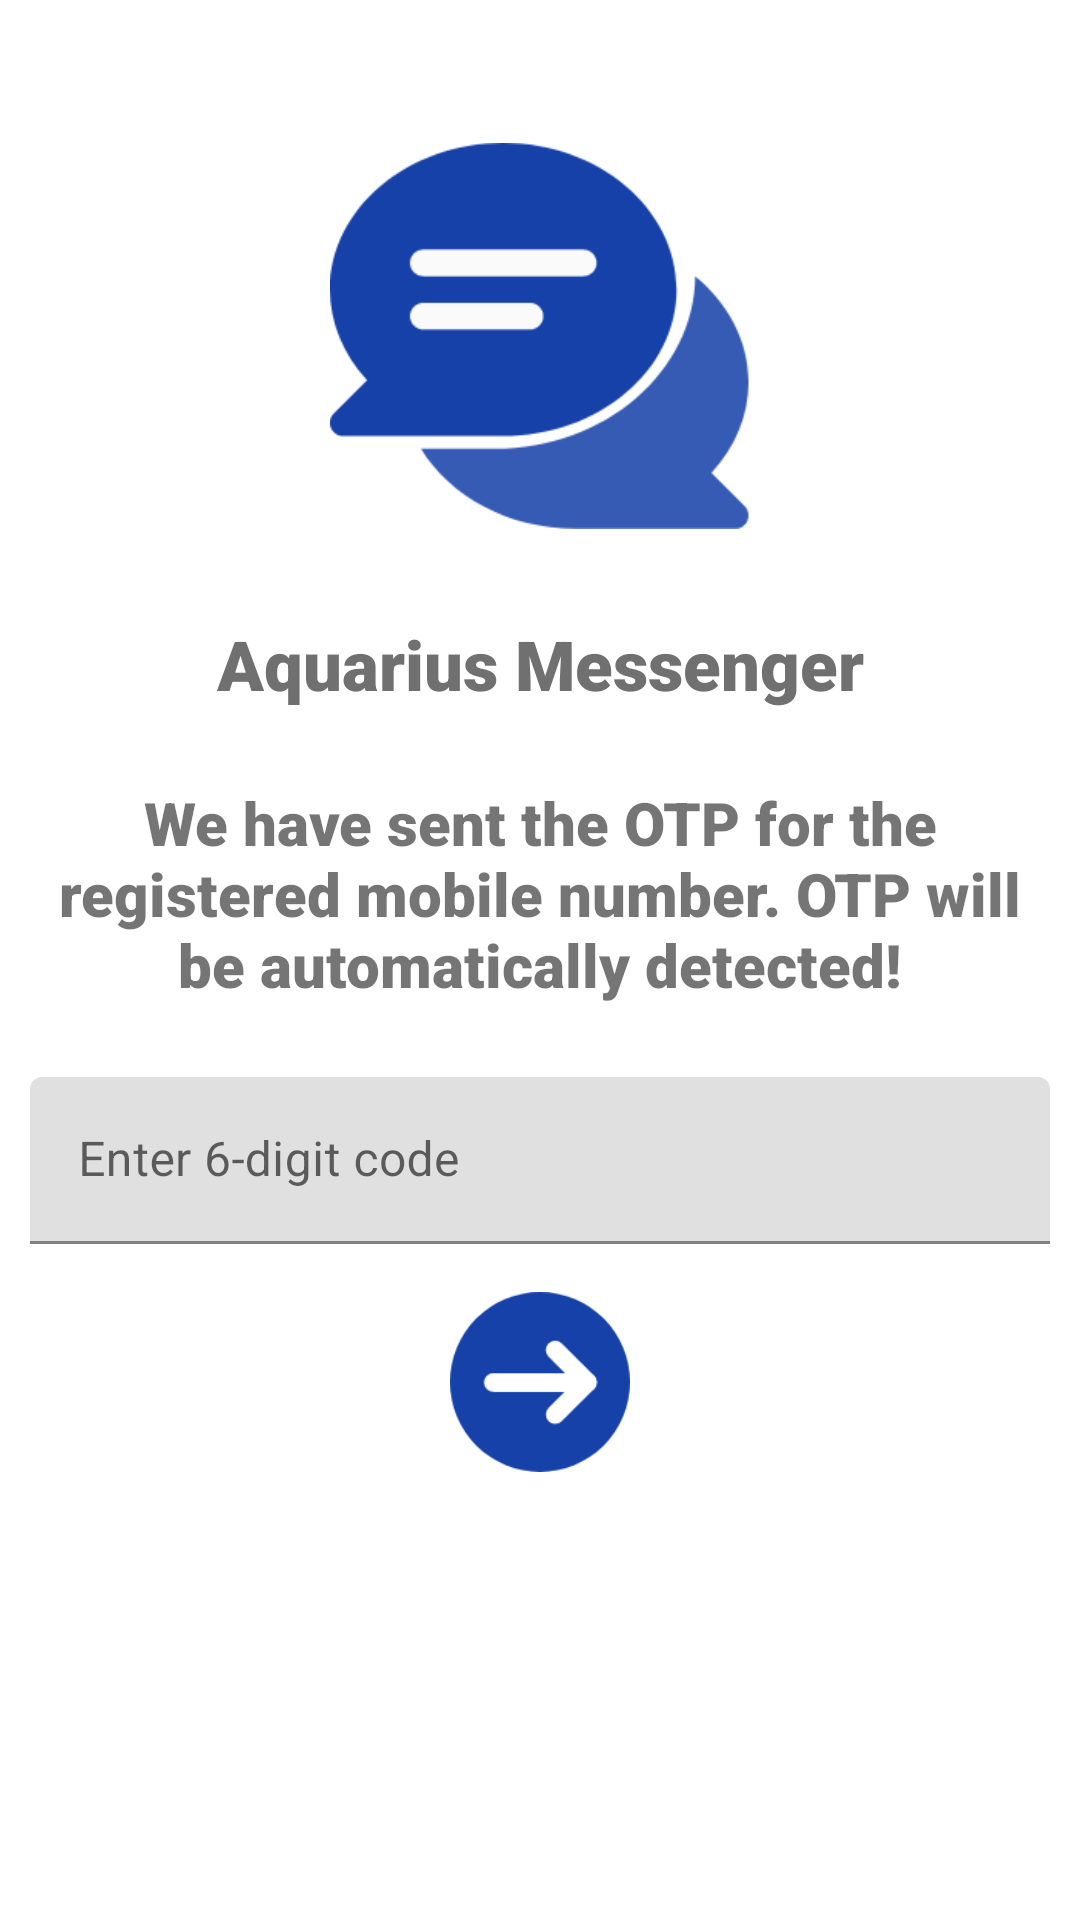

Icon click points for this 1080w x 1920h phone screenshot, format point (x, y):
move on: point (540, 1382)
